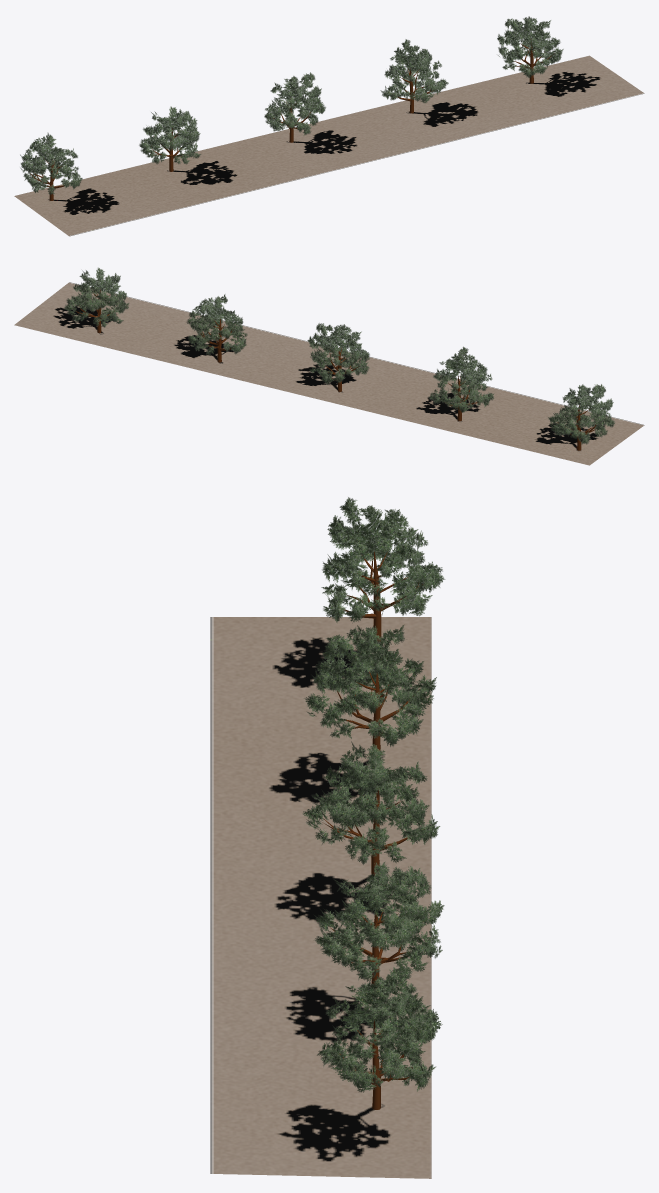
File: treelineEW_berm3.glb
3 views of the same model, one above another, from view 1: azimuth 30°, elevation 25°; view 2: azimuth 150°, elevation 25°; view 3: azimuth 270°, elevation 25° (orthographic). The views are drawn at different scales.
Parts seen in each view (by area): view 1: base, leaf0; view 2: base, leaf0; view 3: base, leaf0.
Part boxes in pixels (<box>): base: <box>14,39,644,236</box>; leaf0: <box>20,16,563,194</box>; base: <box>14,282,644,465</box>; leaf0: <box>64,267,614,444</box>; base: <box>210,551,431,1178</box>; leaf0: <box>302,497,445,1092</box>.
Bounding box in the file's own units: 121 × 13.85 × 21.53.
Materials: 3 (2 with a texture image).
